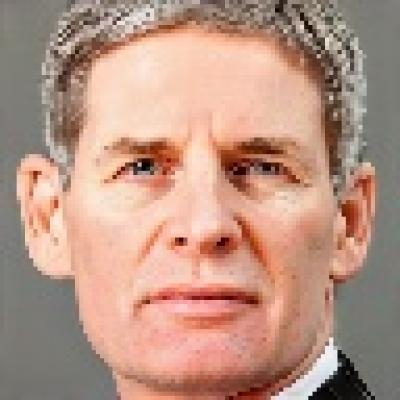angry: (76, 34, 332, 380)
